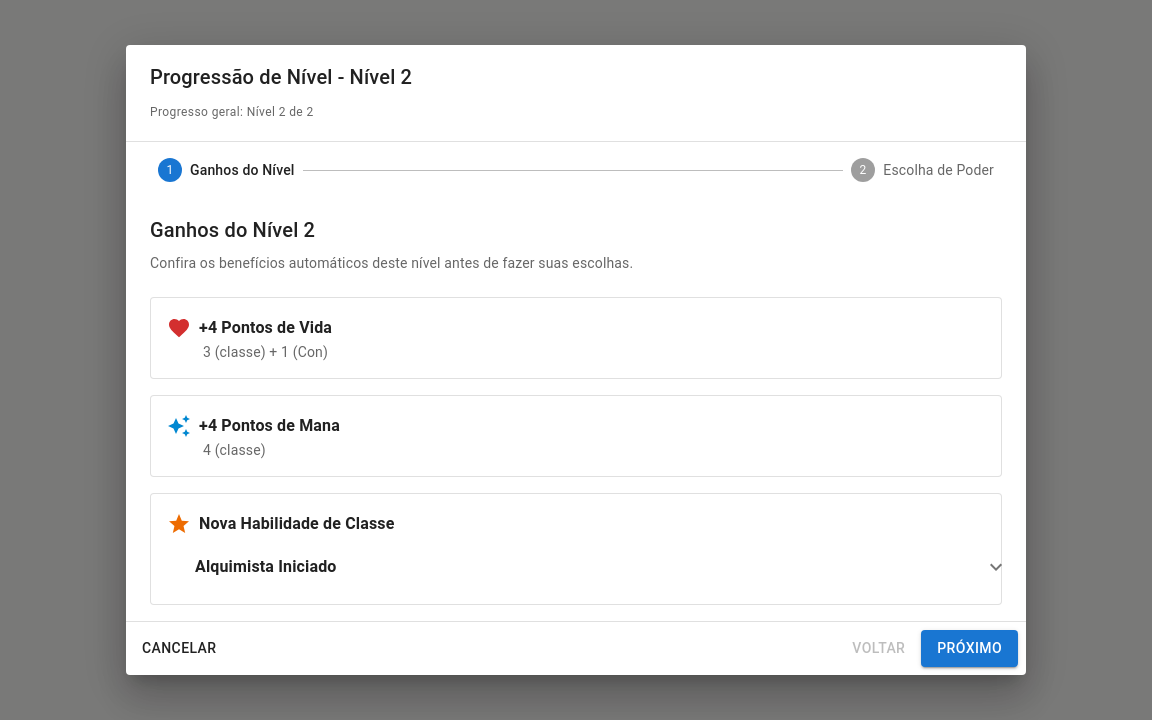
Test: LevelUpWizardModal — pré-requisitos do nível atual › libera poderes que exigem poder concedido por habilidade do mesmo nível
Click the button "Próximo".
click(970, 649)  # box [921,630,1018,667]
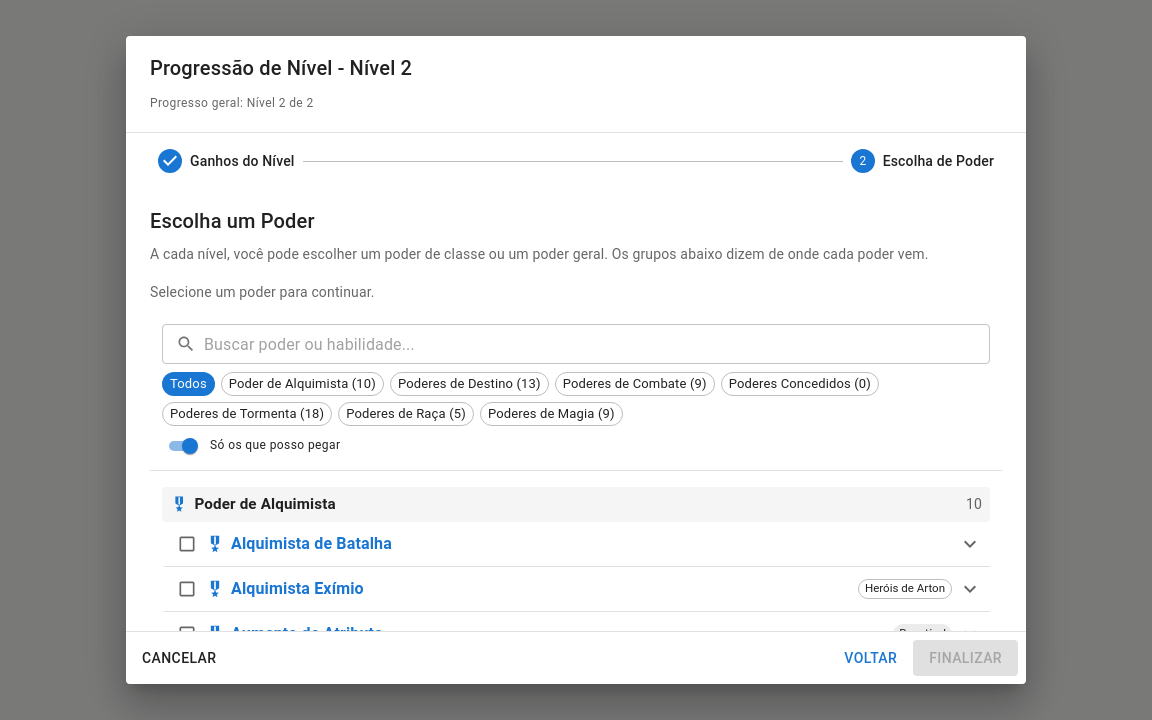
Expected: the text "Alquimista Exímio" is shown, [231,579,364,598]
